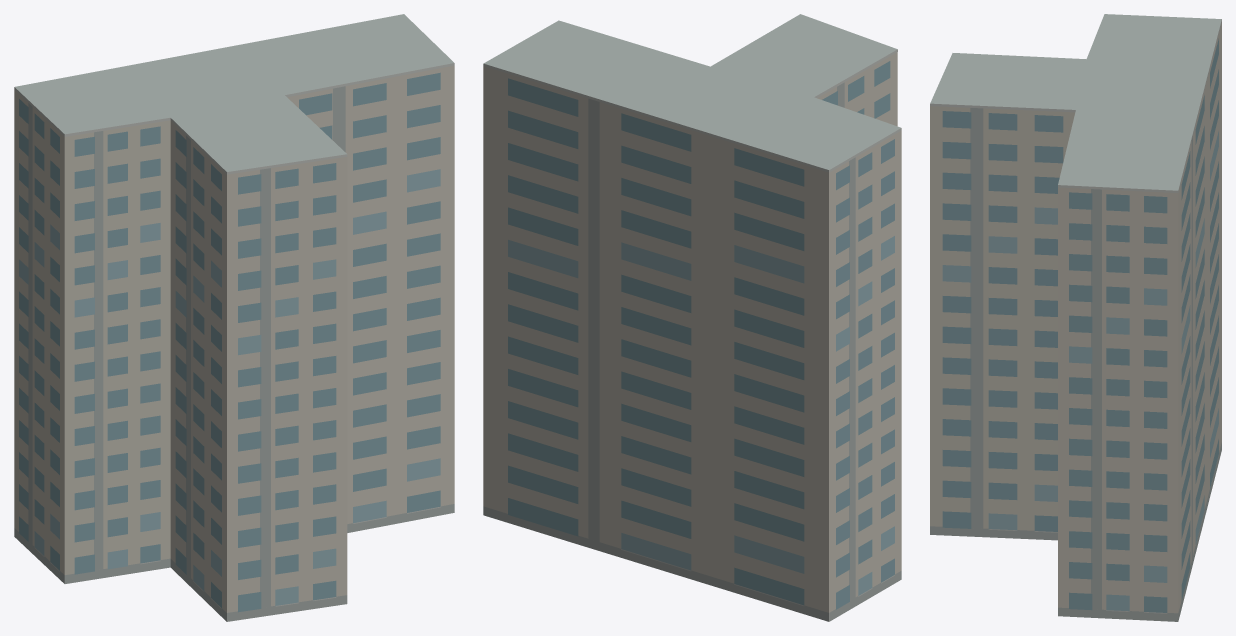
The model's file is residential-2403a358-66d9-49b5-8c17-49b0133a1339.glb.
3 renders of one model, left to right at view 1: azimuth 30°, elevation 25°; view 2: azimuth 150°, elevation 25°; view 3: azimuth 270°, elevation 25°, orthographic. The views are drawn at different scales.
Visible parts, largest first — view 1: residential-2403a358-66d9-49b5-8c17-49b0133a1339.tmp; view 2: residential-2403a358-66d9-49b5-8c17-49b0133a1339.tmp; view 3: residential-2403a358-66d9-49b5-8c17-49b0133a1339.tmp.
Boxes of the visible parts, left/top/right/bottom form: residential-2403a358-66d9-49b5-8c17-49b0133a1339.tmp: left=14, top=14, right=454, bottom=621; residential-2403a358-66d9-49b5-8c17-49b0133a1339.tmp: left=483, top=14, right=901, bottom=621; residential-2403a358-66d9-49b5-8c17-49b0133a1339.tmp: left=930, top=14, right=1221, bottom=621.
Bounding box in the file's own units: 37.81 × 43 × 26.38.
